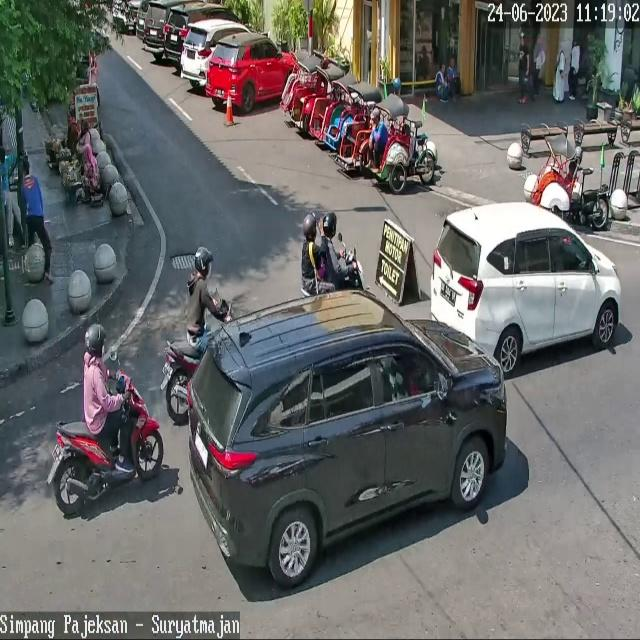bus: (46, 369, 164, 516), (160, 298, 236, 424), (301, 248, 368, 301)
motorcycle: (188, 289, 508, 592), (428, 201, 622, 376), (206, 33, 300, 111), (163, 3, 246, 65), (181, 21, 252, 87), (143, 0, 169, 53)
